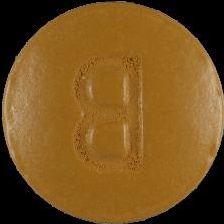64725-2057: (0, 0, 224, 224)
